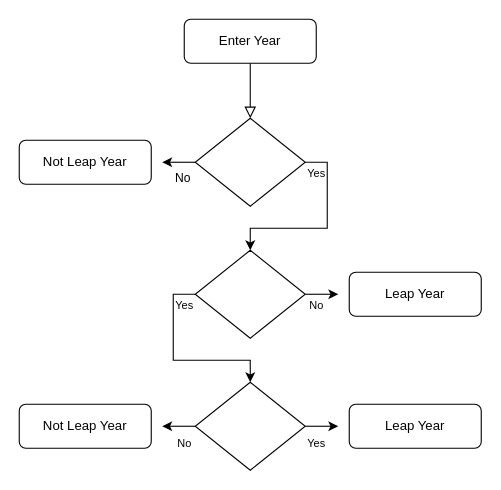
The diagram is 501 pixels wide and 490 high, and some of its shapes have lost their labels. The shapes that lost their labels are listed below. From the top down, each one's box as (x1, y1, x2, y2) in pixels, then its label:
(194, 117, 305, 206): Year Evenly Divisible / 4
(194, 249, 305, 338): Year Evenly Divisible / 100
(194, 381, 305, 470): Year Evenly Divisible / 400
